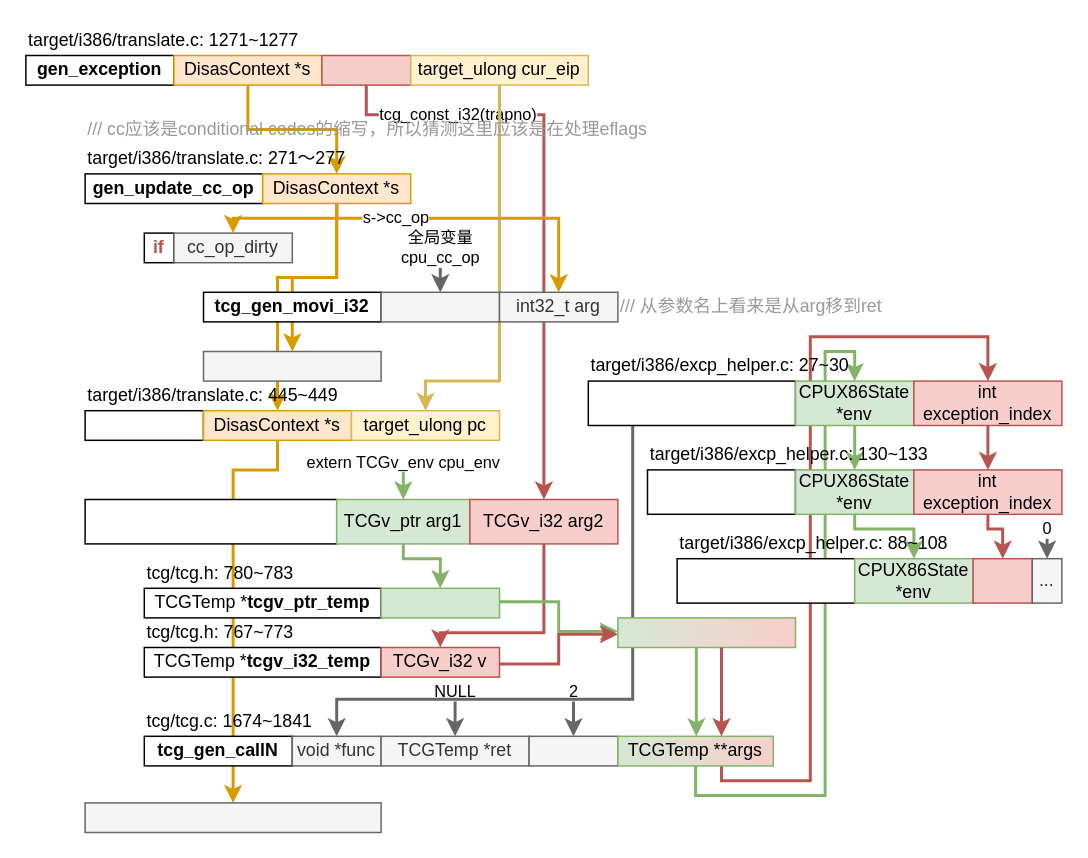
Image size: 1088x858. Some labels were removed from this diagram. The centre of each missing label's shape, as x and y in pixels:
base.js_jmp = DISAS_NORETURN: (232,816)
cc_op_dirty = false: (291,365)
gen_jmp_im: (144,424)
int intno: (1002,580)
int nargs: (573,750)
int trapno: (365,69)
QEMU_NORETURN raise_interrupt2: (765,580)
raise_exception: (721,491)
static inline void gen_helper_raise_exception: (210,521)
TCGTemp *args[2]: (706,632)
TCGv_i32 ret: (440,306)
TCGv_ptr v: (440,602)
void helper_raise_exception: (691,403)
